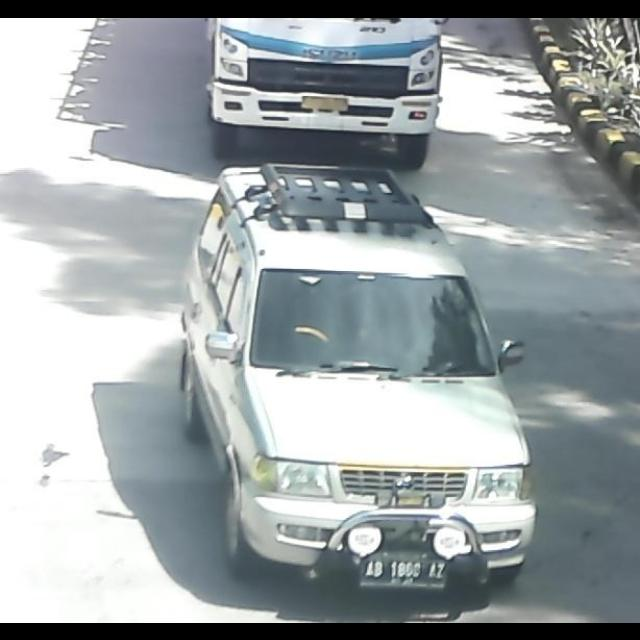plate: (359, 556, 453, 592)
